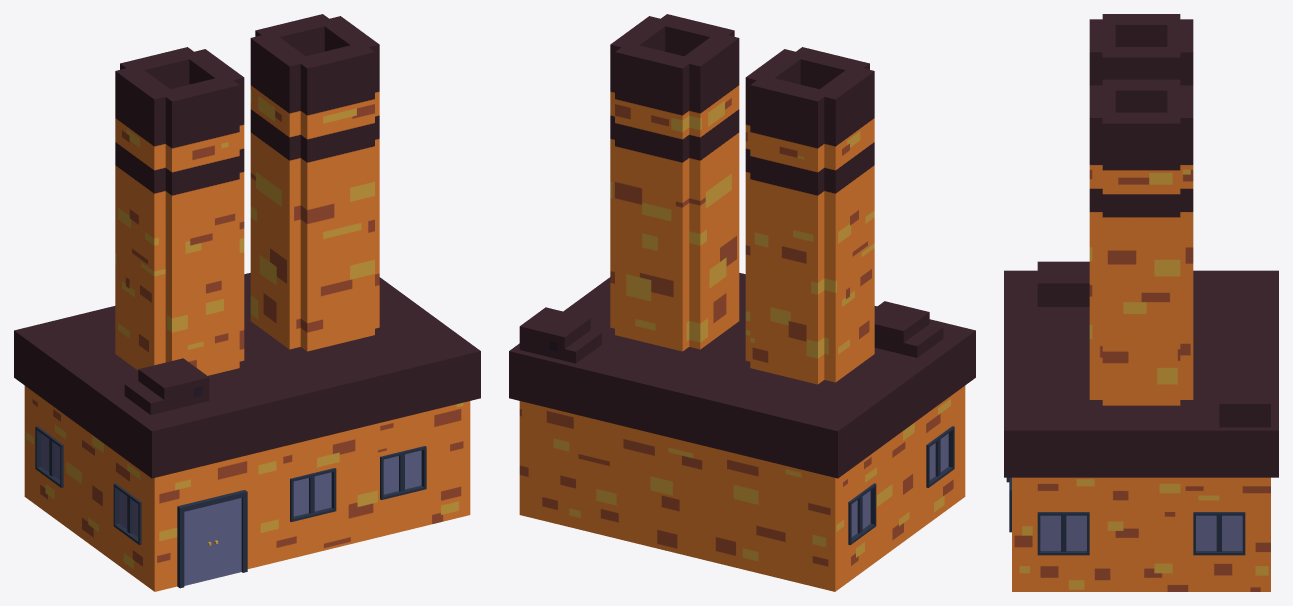
File: building_test5.fbx
3 views of the same model, side by side, from view 1: azimuth 30°, elevation 25°; view 2: azimuth 150°, elevation 25°; view 3: azimuth 270°, elevation 25° (orthographic).
Visible parts, largest first — view 1: Object; view 2: Object; view 3: Object.
Boxes of the visible parts, x1,y1,x2,y2 form: Object: (14, 14, 480, 591); Object: (509, 14, 975, 591); Object: (1004, 14, 1278, 591).
Size of the model in its own units: 146 by 190 by 106.
